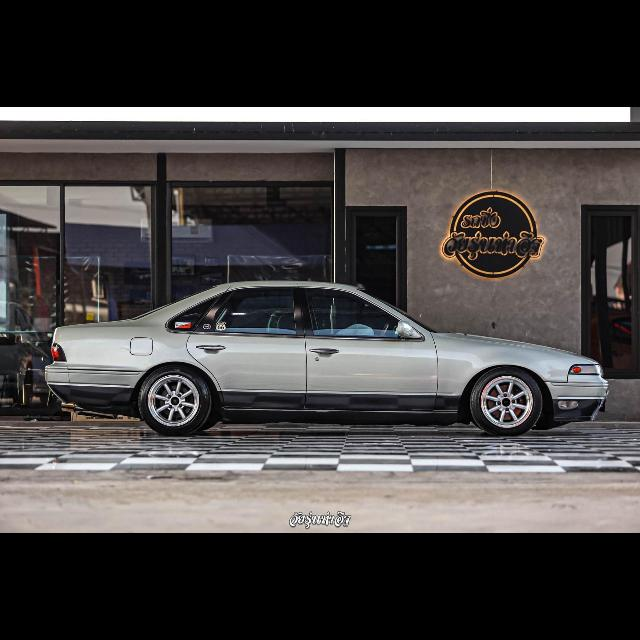cars: (35, 262, 620, 444)
